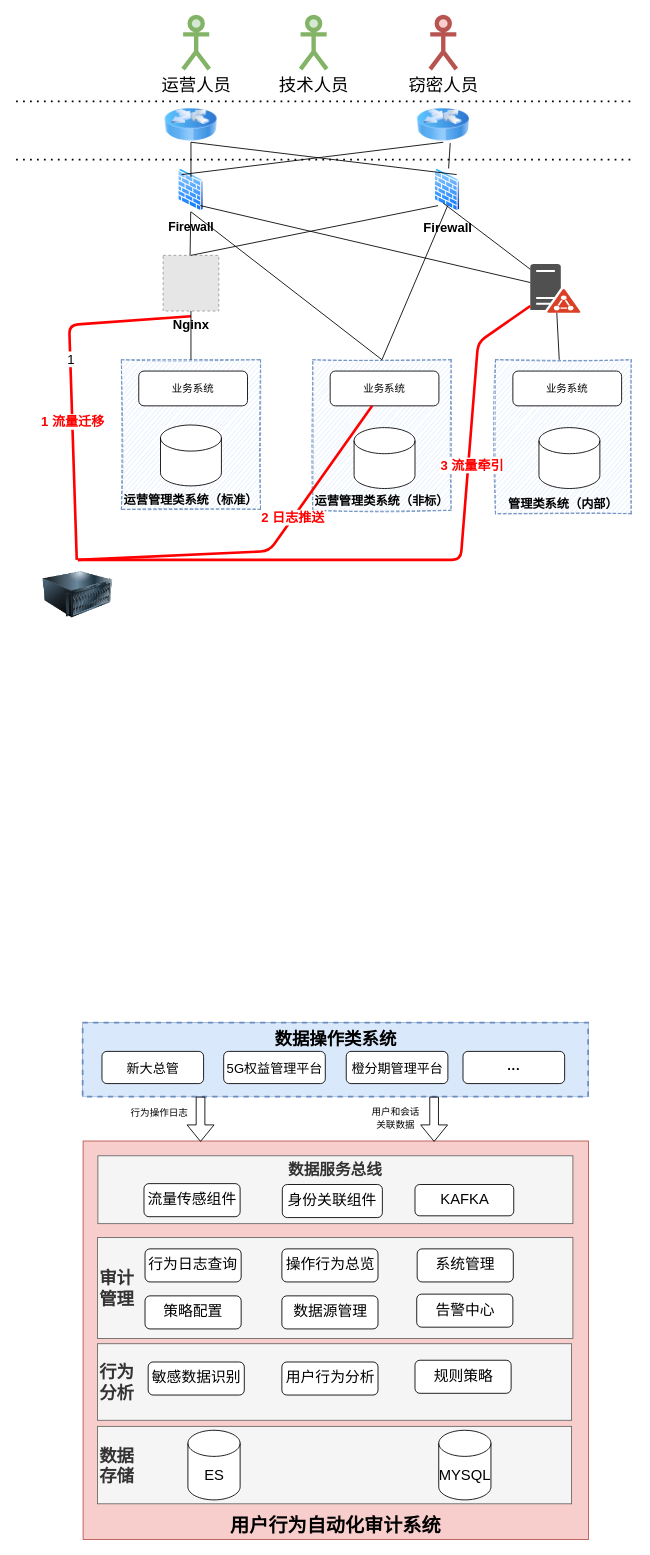
Image size: 650x1555. Some labels were removed from this diagram. Grey dashed boxes stand in for pictures. Each missing label, with the centre of its shape:
"堡垒机" belongs at point (555, 288).
"用户行为审计系统" belongs at point (77, 594).
